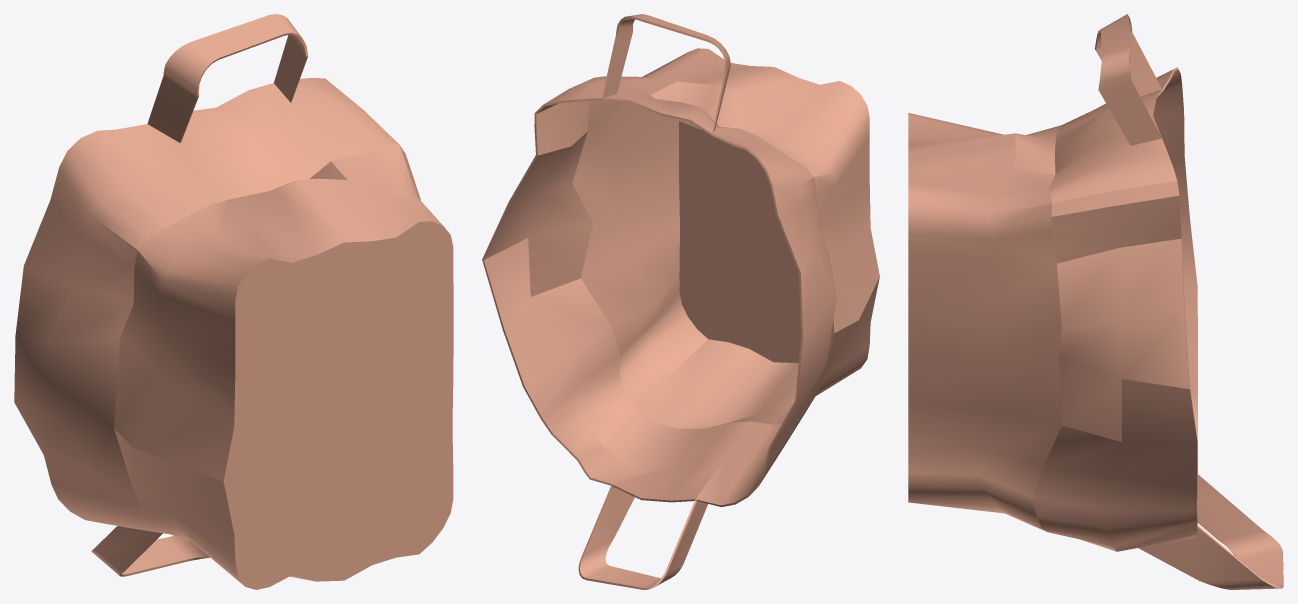
File: bez-torba.fbx
The picture shows the model from 3 angles, left to right: view 1: azimuth 30°, elevation 25°; view 2: azimuth 150°, elevation 25°; view 3: azimuth 270°, elevation 25°; orthographic projection. The views are drawn at different scales.
Visible parts, largest first — view 1: bezTorba.001, bezTorba; view 2: bezTorba.001, bezTorba; view 3: bezTorba, bezTorba.001.
Part boxes in pixels (left/top/right/bottom): bezTorba.001: left=114, top=143, right=453, bottom=589; bezTorba: left=14, top=14, right=398, bottom=576; bezTorba.001: left=572, top=48, right=879, bottom=429; bezTorba: left=482, top=14, right=836, bottom=589; bezTorba: left=1033, top=14, right=1283, bottom=589; bezTorba.001: left=908, top=113, right=1061, bottom=531.
Size of the model in its own units: 339 by 509 by 313.
